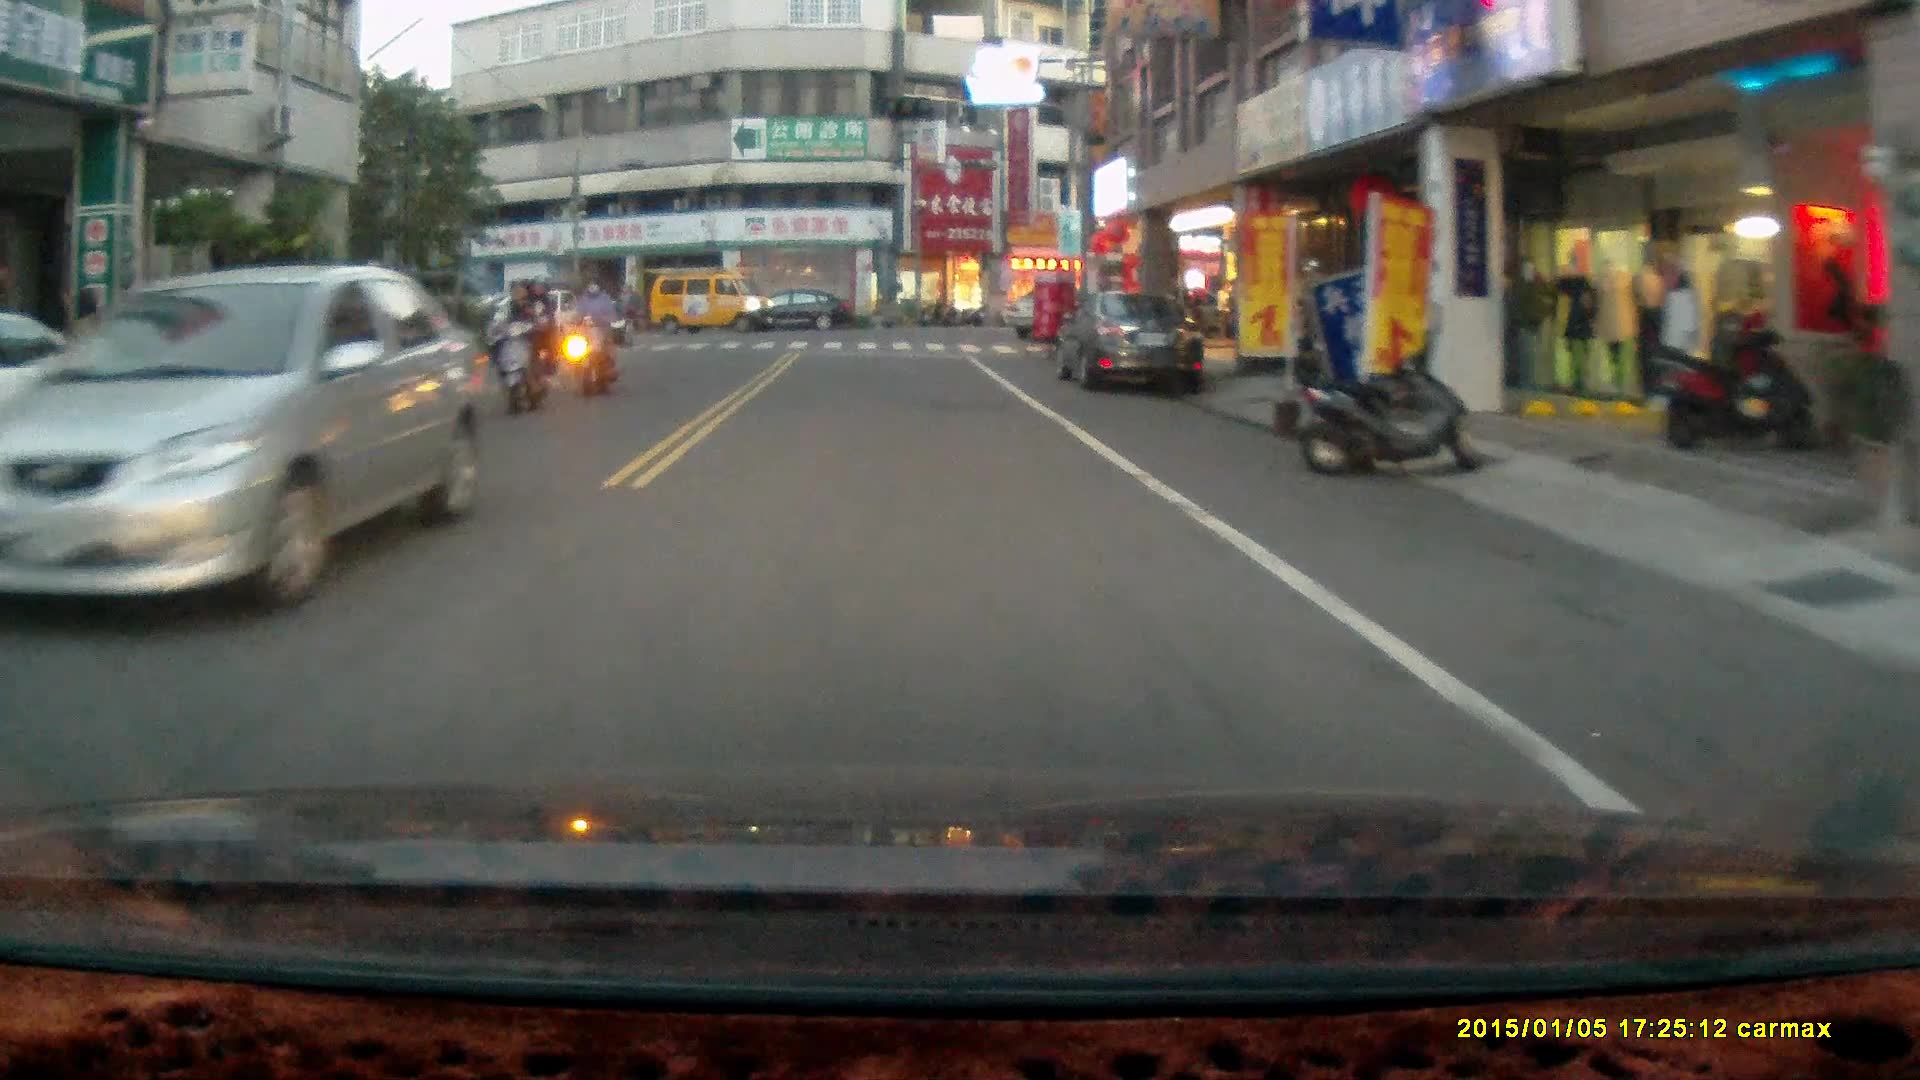rider: (489, 272, 559, 419), (568, 272, 619, 400)
vehicle: (105, 269, 464, 646), (1043, 284, 1212, 405), (644, 264, 780, 336), (738, 290, 856, 336)
